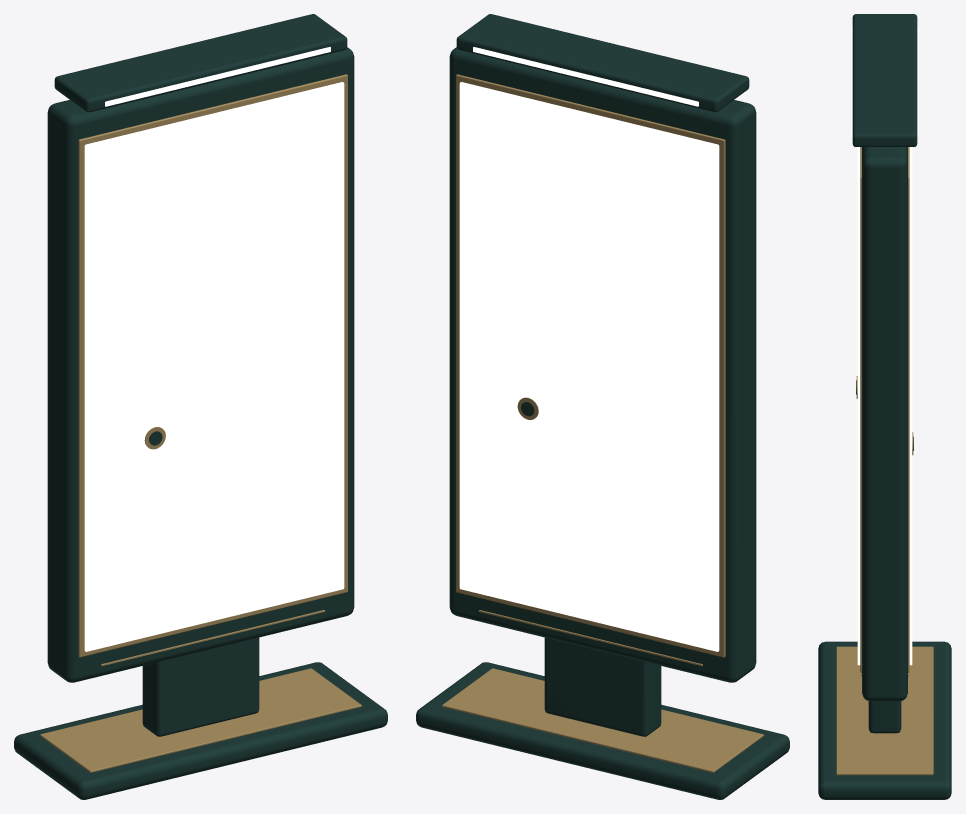
3 views of the same model, side by side, from view 1: azimuth 30°, elevation 25°; view 2: azimuth 150°, elevation 25°; view 3: azimuth 270°, elevation 25° (orthographic). The views are drawn at different scales.
Parts seen in each view (by area): view 1: DELIVERY_PanelFront, DELIVERY_Structure, DELIVERY_Accents, DELIVERY_Lightbar; view 2: DELIVERY_PanelRear, DELIVERY_Structure, DELIVERY_Accents, DELIVERY_Lightbar; view 3: DELIVERY_Structure, DELIVERY_Accents, DELIVERY_PanelFront, DELIVERY_PanelRear, DELIVERY_Lightbar.
Boxes of the visible parts, x1,y1,x2,y2 form: DELIVERY_PanelFront: (84,82,344,651); DELIVERY_Structure: (14,14,387,799); DELIVERY_Accents: (40,74,361,772); DELIVERY_Lightbar: (105,47,330,106); DELIVERY_PanelRear: (459,82,719,651); DELIVERY_Structure: (416,14,789,799); DELIVERY_Accents: (442,74,763,772); DELIVERY_Lightbar: (473,47,698,106); DELIVERY_Structure: (818,14,951,799); DELIVERY_Accents: (836,147,933,775); DELIVERY_PanelFront: (857,147,860,665); DELIVERY_PanelRear: (909,147,912,665); DELIVERY_Lightbar: (851,26,918,136).
Bounding box in the file's own units: 0.9 × 1.9 × 0.35.
